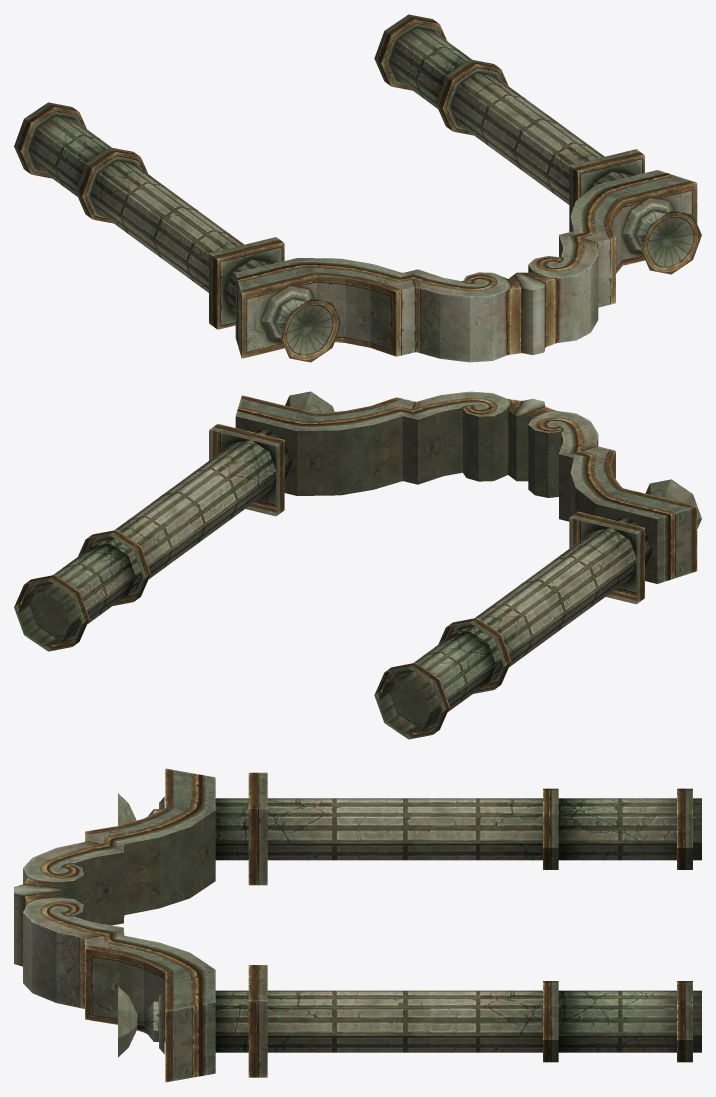
Rendered from zhucheng_yewai_291_gongmen_02.obj.
The picture shows the model from 3 angles, top to bottom: view 1: azimuth 30°, elevation 25°; view 2: azimuth 150°, elevation 25°; view 3: azimuth 270°, elevation 25°; orthographic projection. The views are drawn at different scales.
Visible parts, largest first — view 1: zhucheng_yewai_291_gongmen_02; view 2: zhucheng_yewai_291_gongmen_02; view 3: zhucheng_yewai_291_gongmen_02.
Part boxes in pixels (x1,y1,x2,y2): zhucheng_yewai_291_gongmen_02: [14, 14, 701, 362]; zhucheng_yewai_291_gongmen_02: [14, 391, 701, 739]; zhucheng_yewai_291_gongmen_02: [14, 768, 701, 1082].
Bounding box in the file's own units: 611 × 91.76 × 731.
1 material, 1 textured.
